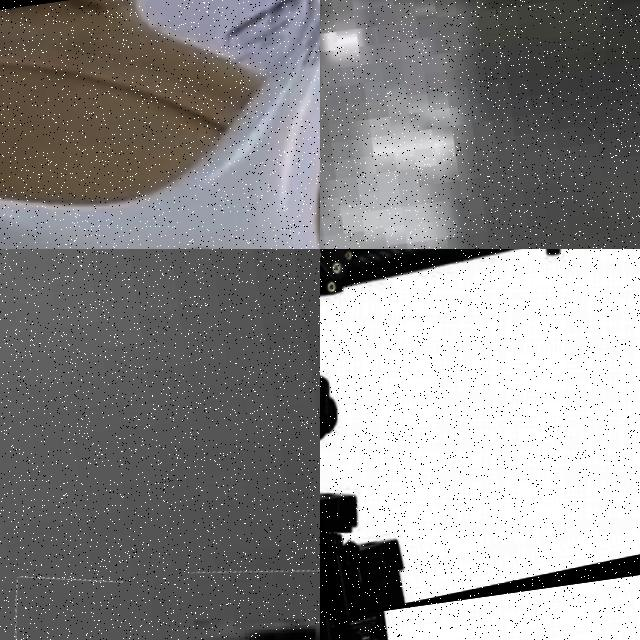drone: (320, 249, 640, 619), (0, 0, 320, 249), (0, 540, 320, 640)
